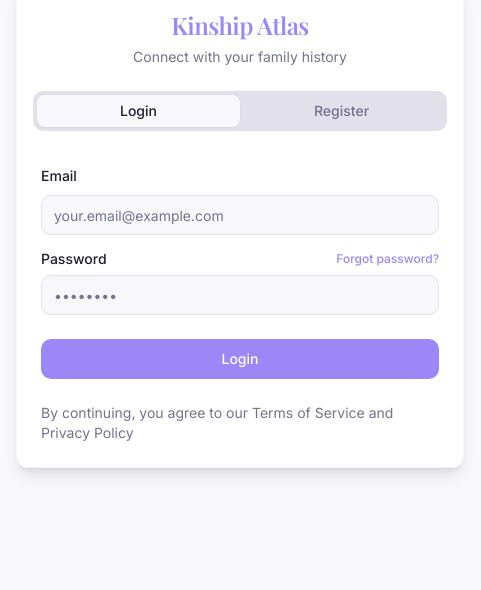
Test case: AuthForm › should switch to register tab
Step 1. Click the tab "Register" → [342, 111], box top-left (240, 95), bottom-right (443, 127)
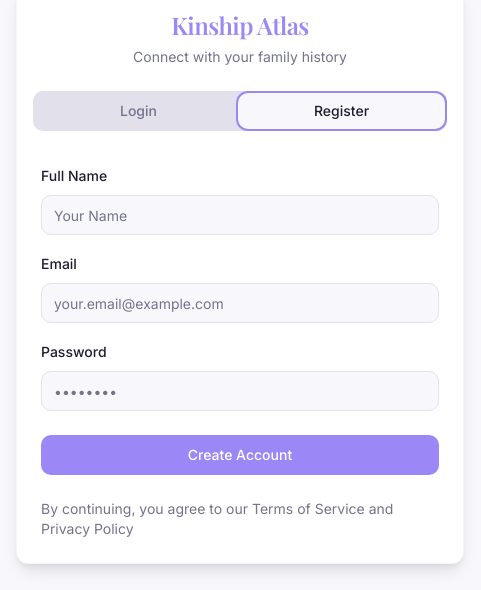
Check: the field labelled "Full Name" is shown, box top-left (41, 195), bottom-right (439, 235)
Check: the button "Create Account" is shown, box top-left (41, 435), bottom-right (439, 475)
